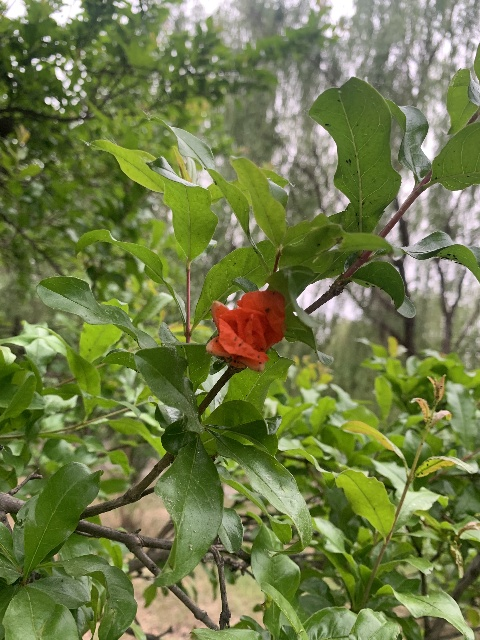flower: (206, 289, 286, 370)
